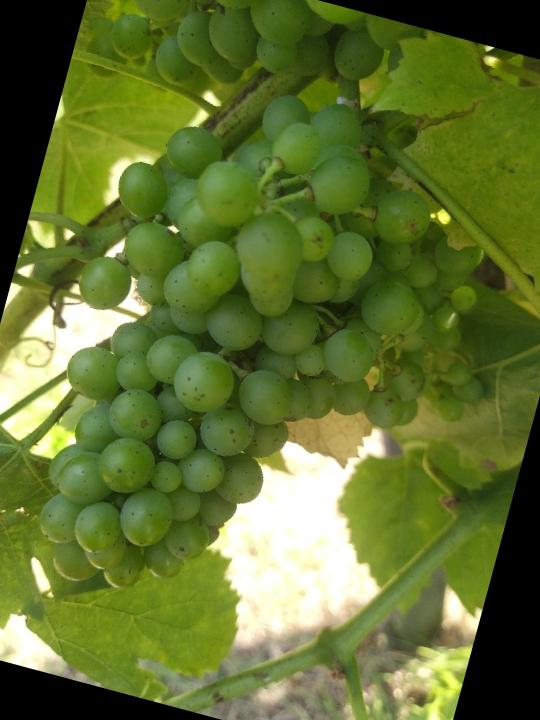grape: (0, 45, 540, 677)
